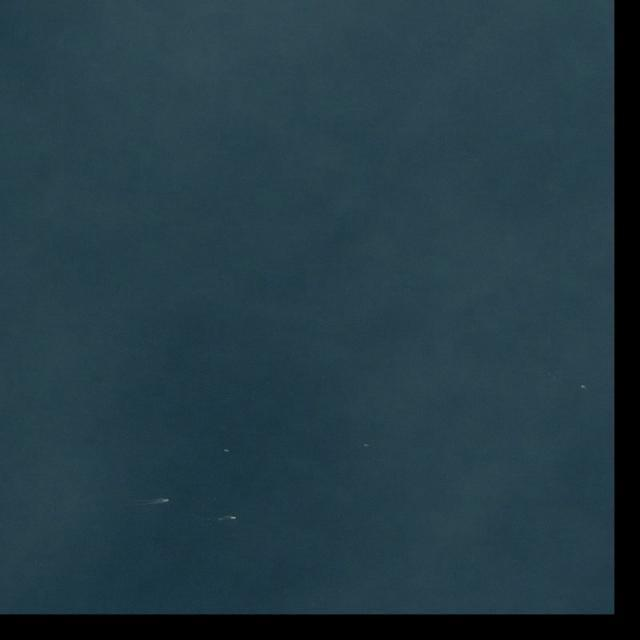ship: (162, 498, 170, 503), (224, 449, 231, 454), (230, 516, 238, 520), (363, 444, 370, 447), (581, 385, 585, 389)
